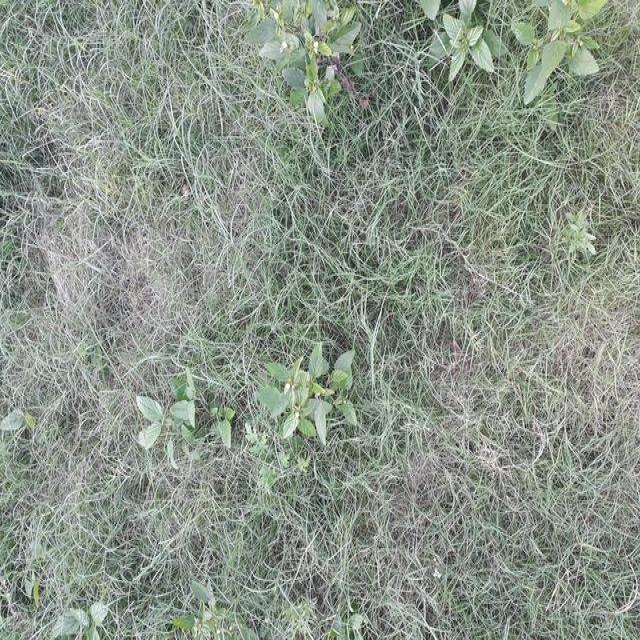weed: (411, 0, 612, 93), (226, 0, 378, 112), (270, 341, 360, 448), (130, 388, 227, 453), (49, 592, 115, 640), (566, 202, 604, 264)
